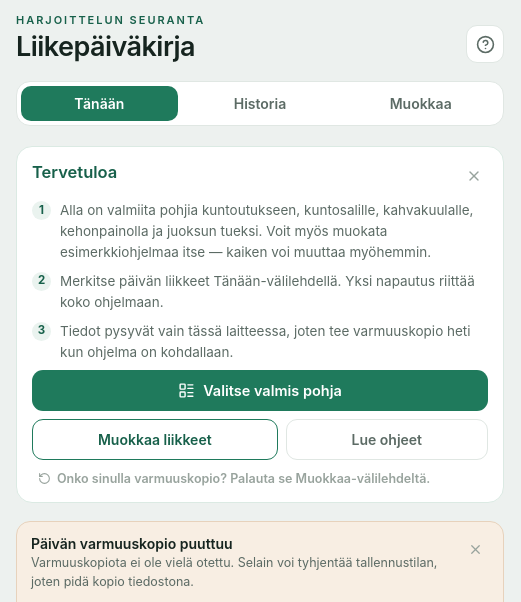
Scenario: daily backup reminder › prompts when no backup exists and stops for the day when dismissed
The width and height of the screenshot is (521, 602).
Expected: the text "Päivän varmuuskopio puuttuu" is shown, [31,536,233,552]
Expected: the text "Selain voi tyhjentää tallennustilan" is shown, [31,556,437,589]
Click the button named "Piilota tälle päivälle": (475, 550) [461,536,489,564]
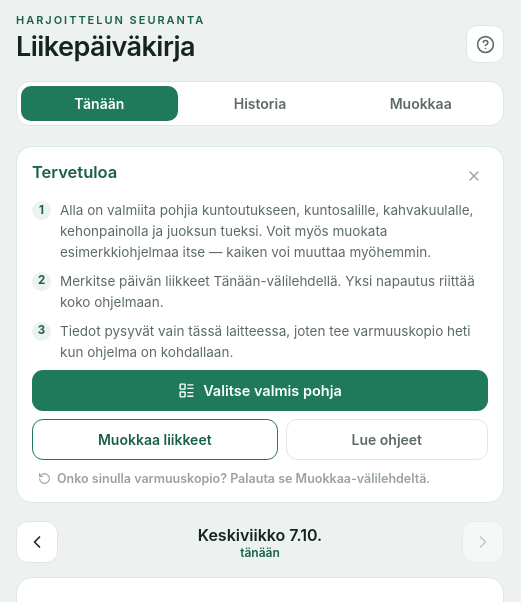
Now the text "Päivän varmuuskopio puuttuu" is gone
